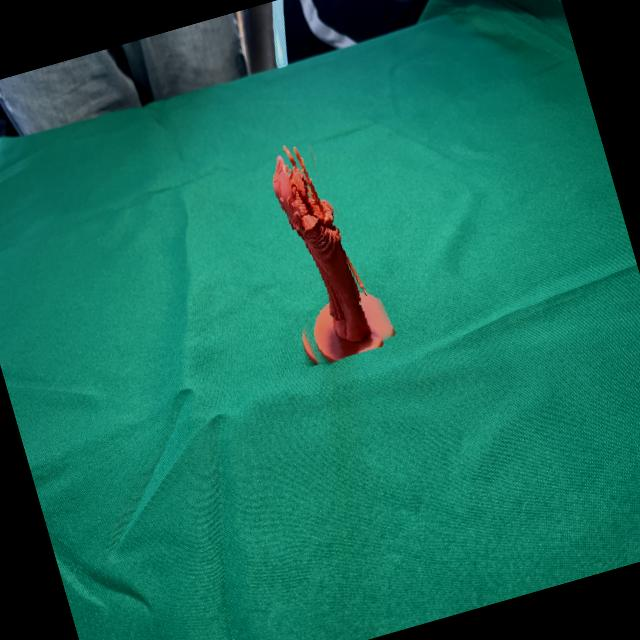amon: (234, 126, 392, 373)
